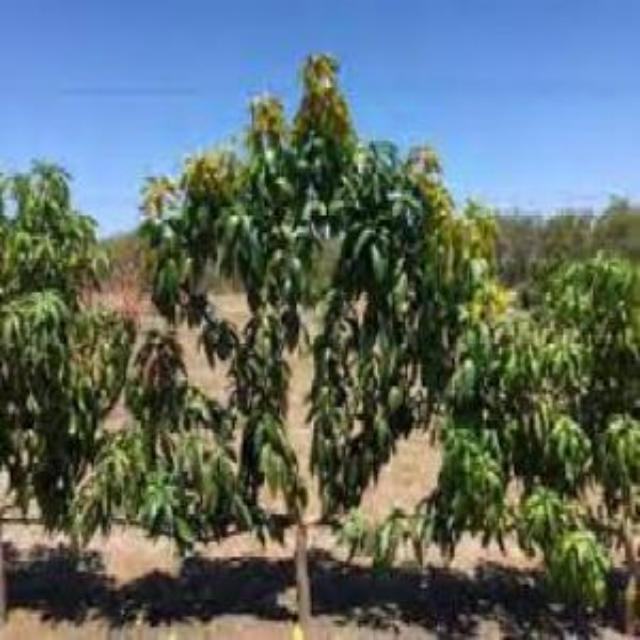tree: (128, 48, 478, 620)
